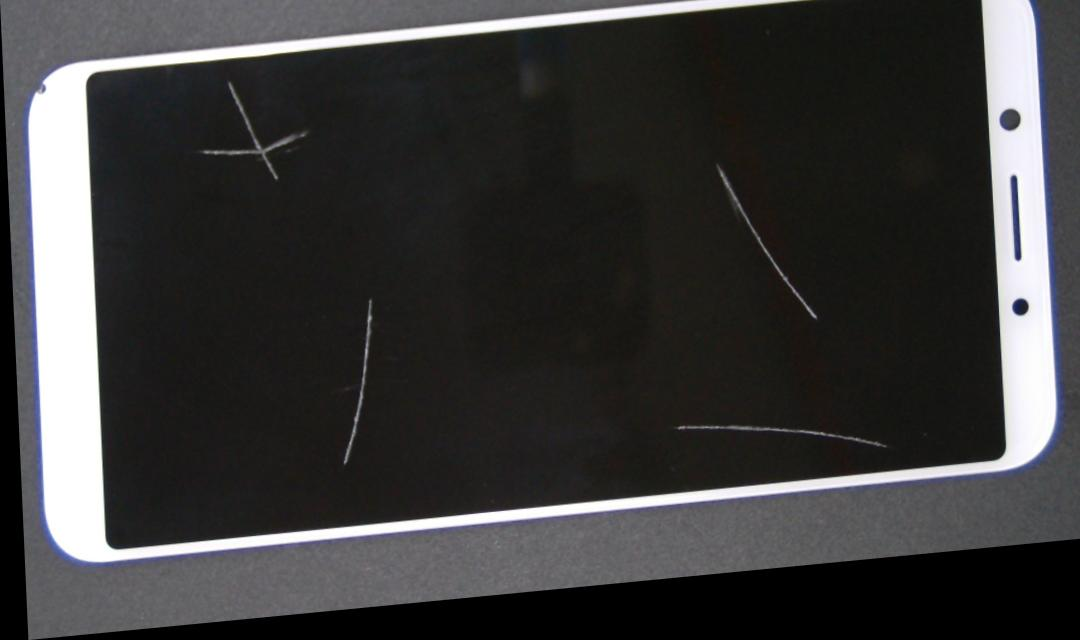Scratches: (661, 111, 869, 356), (284, 251, 446, 487), (623, 394, 918, 496), (176, 75, 352, 197)
